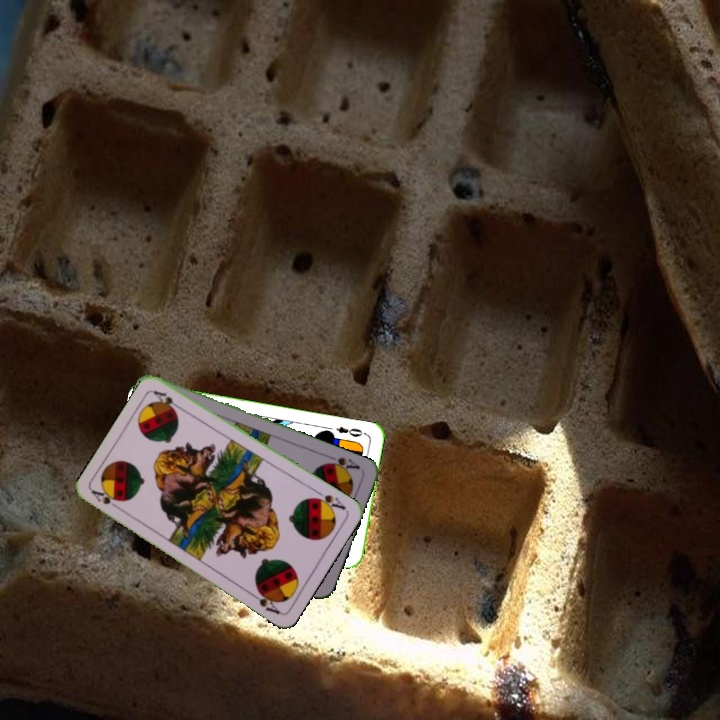EO: (332, 422, 369, 439)
SA: (308, 486, 349, 513), (88, 486, 125, 514), (323, 452, 363, 476)
